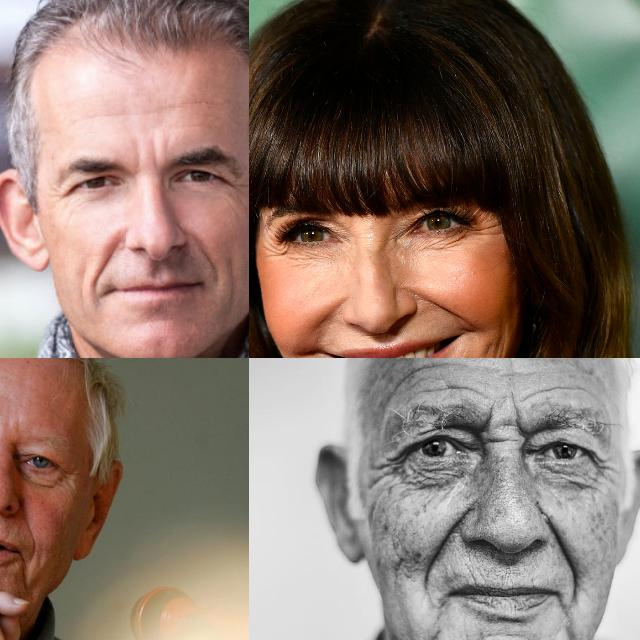chin: (472, 630, 533, 640), (421, 633, 442, 640)
crows_feet: (588, 454, 614, 488), (222, 170, 248, 203), (379, 452, 407, 480), (474, 212, 502, 238), (264, 233, 286, 259), (56, 466, 76, 488)
forehead: (408, 362, 469, 398)
frown_line: (128, 140, 164, 170), (510, 398, 530, 444), (478, 410, 499, 452), (12, 416, 22, 438)
gummy_smile: (546, 516, 580, 582), (421, 522, 457, 576), (414, 289, 466, 323), (85, 238, 118, 288), (15, 493, 37, 541), (310, 300, 340, 334), (200, 242, 220, 288)
masseter: (388, 553, 412, 595), (472, 332, 504, 358)
sad_smile: (15, 556, 35, 600), (433, 591, 449, 619), (560, 594, 570, 632)
